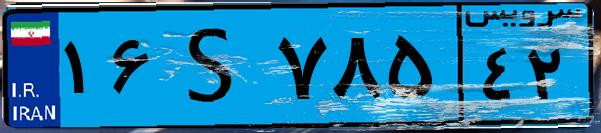1: (57, 26, 110, 100)
2: (525, 38, 570, 115)
4: (475, 38, 525, 113)
5: (385, 28, 445, 110)
6: (110, 28, 158, 98)
7: (270, 28, 330, 110)
8: (330, 28, 385, 110)
S: (158, 12, 270, 120)
